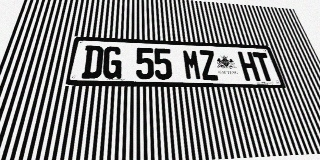5: (136, 47, 155, 79), (154, 48, 173, 80)
D: (81, 45, 104, 79)
G: (102, 46, 122, 79)
H: (237, 52, 261, 81)
M: (182, 49, 203, 80)
T: (252, 52, 276, 81)
Z: (198, 50, 220, 80)
